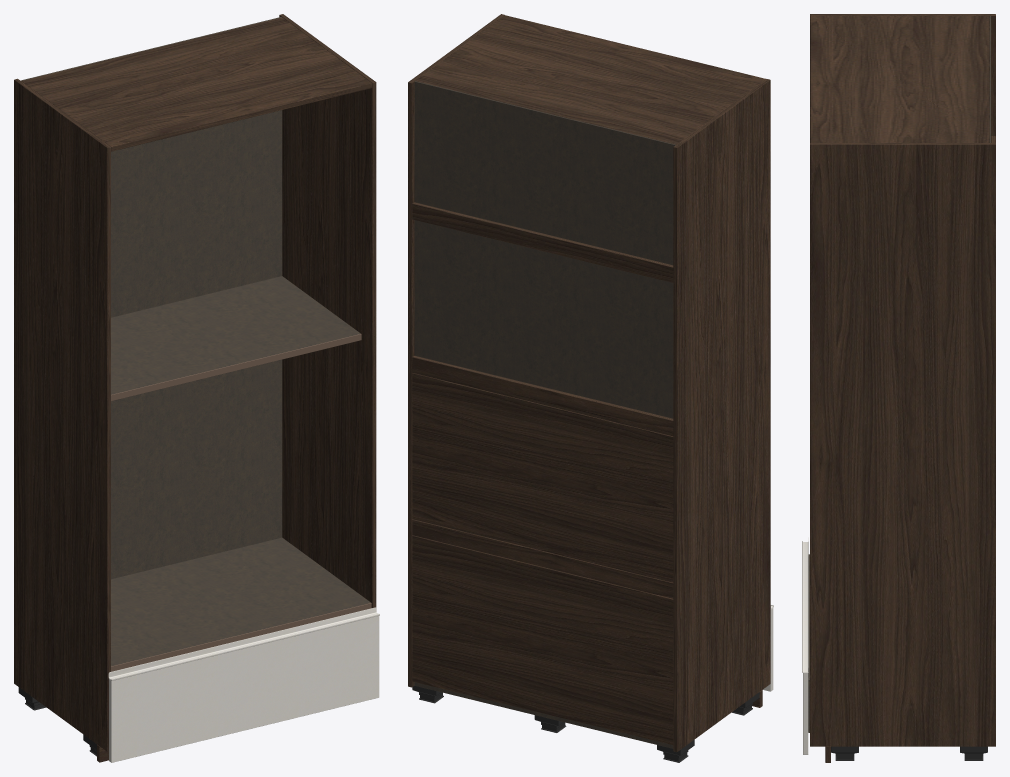
3 renders of one model, left to right at view 1: azimuth 30°, elevation 25°; view 2: azimuth 150°, elevation 25°; view 3: azimuth 270°, elevation 25°, orthographic.
Visible parts, largest first — view 1: HK1001255; view 2: HK1001255; view 3: HK1001255.
Part boxes in pixels (bbox=[...]): HK1001255: bbox=[14, 14, 379, 762]; HK1001255: bbox=[408, 14, 773, 762]; HK1001255: bbox=[802, 14, 995, 762].
Size of the model in its own units: 1 by 2.2 by 0.6256.
Materials: 8 (7 with a texture image).
